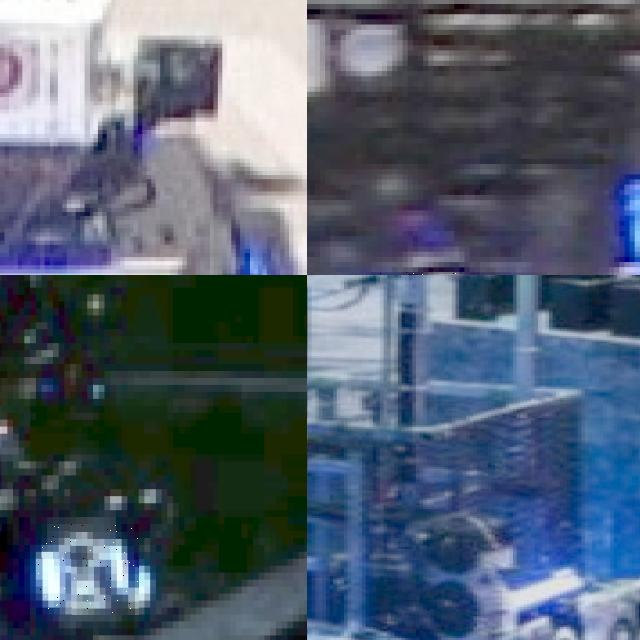Bs: (36, 524, 139, 615)
